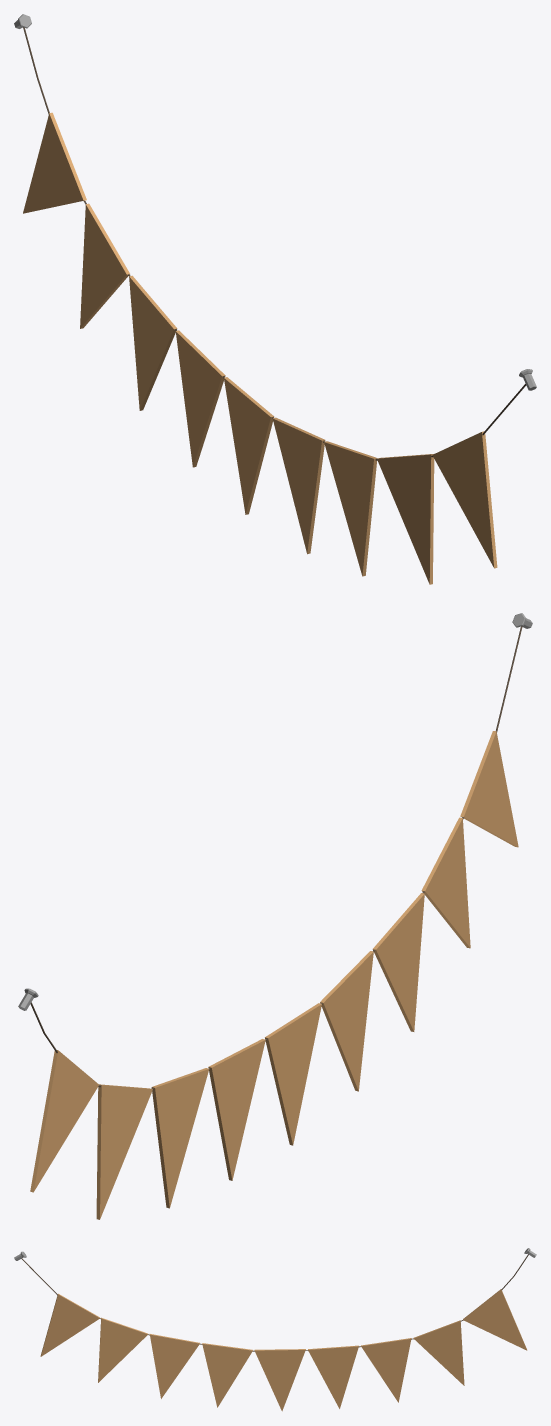
File: Lvl1_garland_01.fbx
The picture shows the model from 3 angles, top to bottom: view 1: azimuth 30°, elevation 25°; view 2: azimuth 150°, elevation 25°; view 3: azimuth 270°, elevation 25°; orthographic projection. The views are drawn at different scales.
Parts seen in each view (by area): view 1: Lvl1_garland_01; view 2: Lvl1_garland_01; view 3: Lvl1_garland_01.
Part boxes in pixels (box(x1,y1,x2,y2)): Lvl1_garland_01: box(14, 14, 536, 584); Lvl1_garland_01: box(18, 613, 532, 1219); Lvl1_garland_01: box(14, 1248, 536, 1411).
Size of the model in its own units: 0.6659 by 5.43 by 15.39.
